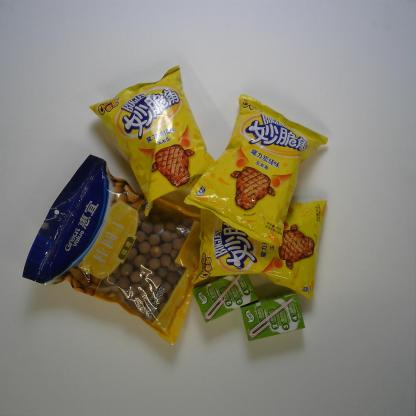Dried Food: (20, 152, 202, 348)
Milk: (191, 273, 259, 324), (240, 290, 306, 342)
Puffed Food: (182, 91, 329, 247), (88, 63, 216, 219), (190, 198, 328, 302)
